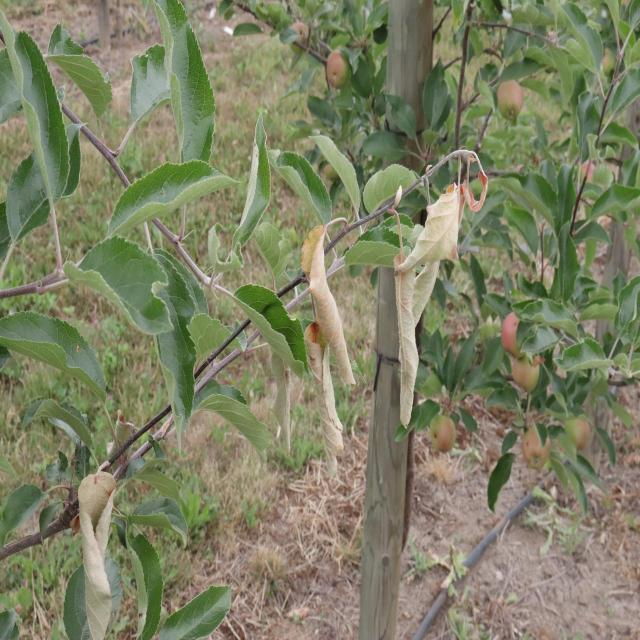-FireBlight-: (396, 160, 496, 454)
